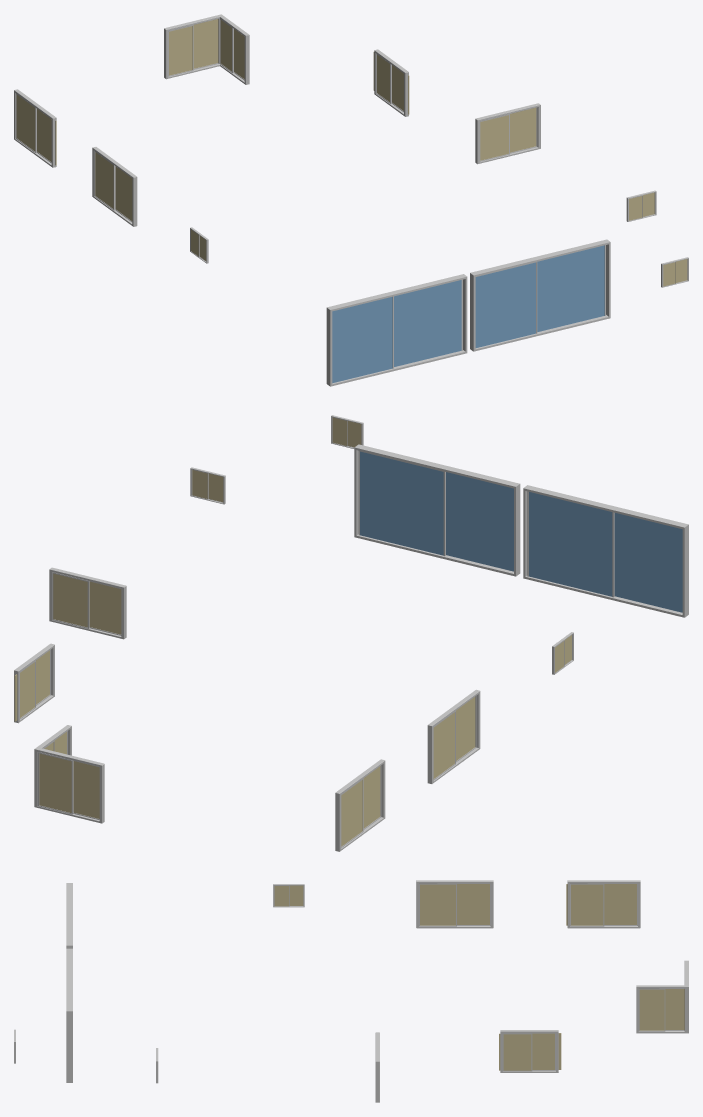
File: Windows.fbx
The picture shows the model from 3 angles, top to bottom: view 1: azimuth 30°, elevation 25°; view 2: azimuth 150°, elevation 25°; view 3: azimuth 270°, elevation 25°; orthographic projection. The views are drawn at different scales.
Visible parts, largest first — view 1: Cube.165, Cube.168, Cube.160, Cube.167, Plane.033, Plane.034, Cube.162, Cube.163, Cube.164, Cube.044, Cube.059, Cube.161 (+5 smaller); view 2: Cube.165, Cube.168, Cube.160, Cube.167, Plane.034, Plane.033, Cube.163, Cube.162, Cube.164, Cube.041, Cube.059, Cube.043 (+4 smaller); view 3: Cube.163, Cube.162, Cube.164, Cube.161, Cube.043, Cube.044, Plane.034, Cube.042, Cube.046, Cube.169, Plane.033, Cube.059.
Part boxes in pixels (<box>): Cube.165: <box>332,280,461,383</box>; Cube.168: <box>475,245,604,347</box>; Cube.160: <box>169,19,218,75</box>; Cube.167: <box>480,107,536,160</box>; Plane.033: <box>326,274,467,386</box>; Plane.034: <box>470,239,610,351</box>; Cube.162: <box>16,95,56,165</box>; Cube.163: <box>95,152,132,220</box>; Cube.164: <box>373,52,409,114</box>; Cube.044: <box>92,147,137,226</box>; Cube.059: <box>475,103,540,164</box>; Cube.161: <box>220,20,244,79</box>; Cube.165: <box>529,492,682,612</box>; Cube.168: <box>360,451,513,571</box>; Cube.160: <box>39,753,99,818</box>; Cube.167: <box>53,573,121,634</box>; Plane.034: <box>354,444,520,576</box>; Plane.033: <box>523,485,688,617</box>; Cube.163: <box>433,697,475,778</box>; Cube.162: <box>341,766,380,846</box>; Cube.164: <box>14,650,49,721</box>; Cube.041: <box>34,748,104,823</box>; Cube.059: <box>49,567,126,639</box>; Cube.043: <box>335,759,385,851</box>; Cube.163: <box>420,884,489,925</box>; Cube.162: <box>566,884,636,925</box>; Cube.164: <box>499,1033,561,1070</box>; Cube.161: <box>639,989,684,1030</box>; Cube.043: <box>567,880,640,928</box>; Cube.044: <box>416,880,493,928</box>; Plane.034: <box>66,948,72,1082</box>; Cube.042: <box>636,985,688,1033</box>; Cube.046: <box>500,1030,558,1072</box>; Cube.169: <box>274,885,303,906</box>; Plane.033: <box>66,883,72,948</box>; Cube.059: <box>375,1032,379,1102</box>.
Bounding box in the file's own units: 1841 × 347 × 2954.
